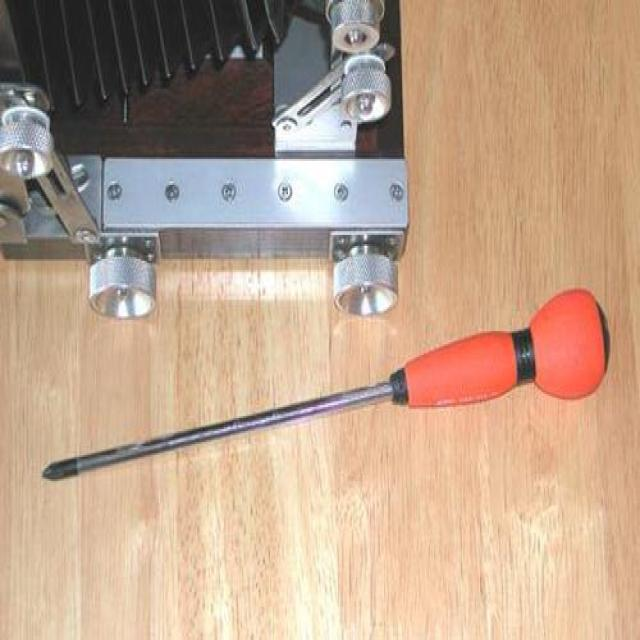screw driver: (6, 281, 640, 506)
